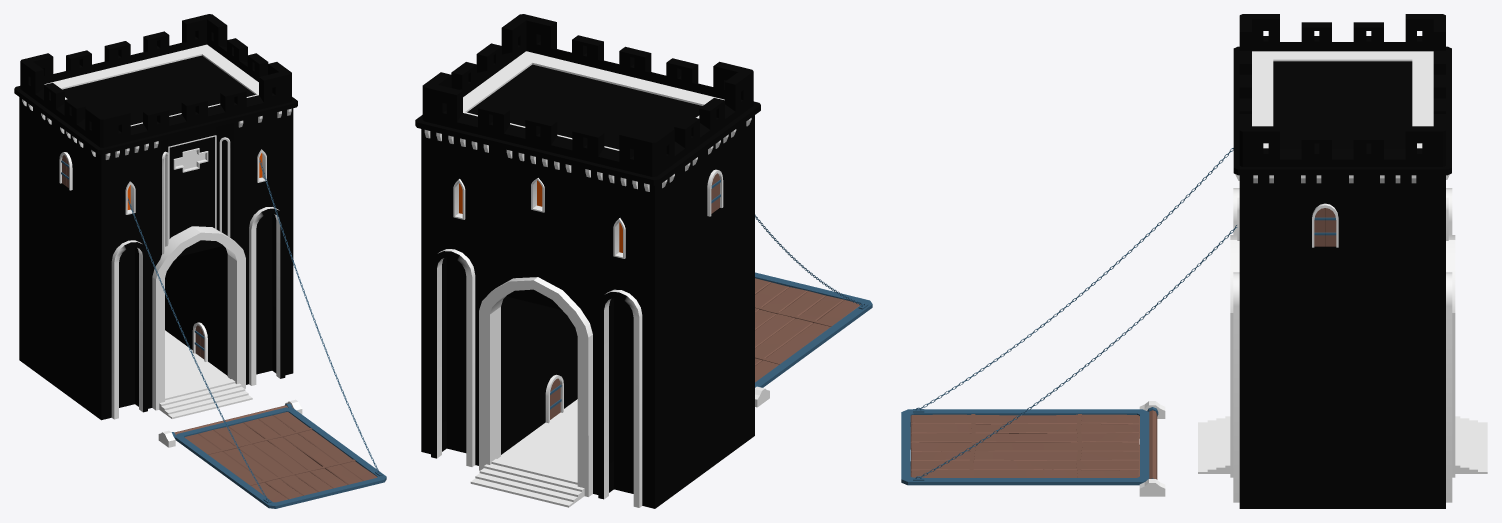
Rendered from castle_gate_a1.fbx.
The picture shows the model from 3 angles, left to right: view 1: azimuth 30°, elevation 25°; view 2: azimuth 150°, elevation 25°; view 3: azimuth 270°, elevation 25°; orthographic projection. The views are drawn at different scales.
Visible parts, largest first — view 1: castle_gate_a; view 2: castle_gate_a; view 3: castle_gate_a.
Boxes of the visible parts, left/top/right/bottom form: castle_gate_a: left=14, top=14, right=386, bottom=508; castle_gate_a: left=415, top=14, right=872, bottom=508; castle_gate_a: left=901, top=14, right=1487, bottom=508.
Bounding box in the file's own units: 1803 × 2624 × 3636.
